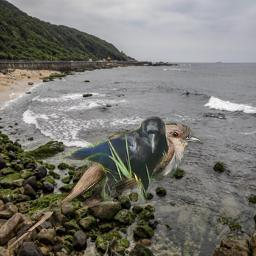Crow: (59, 116, 169, 203)
Cuckoo: (9, 122, 204, 248)
